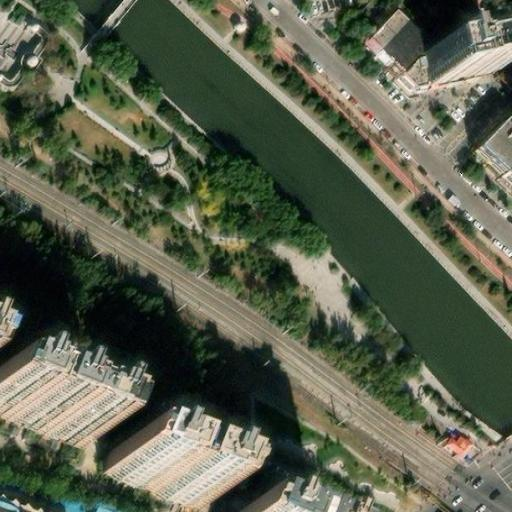building: (348, 7, 427, 101), (110, 449, 215, 509), (0, 380, 87, 439), (417, 43, 491, 87), (477, 135, 512, 197), (0, 492, 31, 512)
